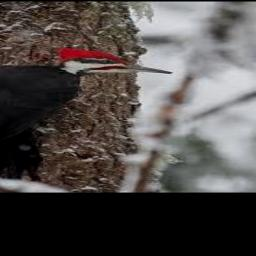Woodpecker: (0, 47, 172, 181)
